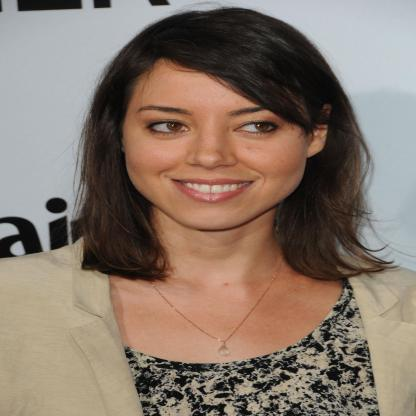long-hair: (50, 230, 401, 284)
